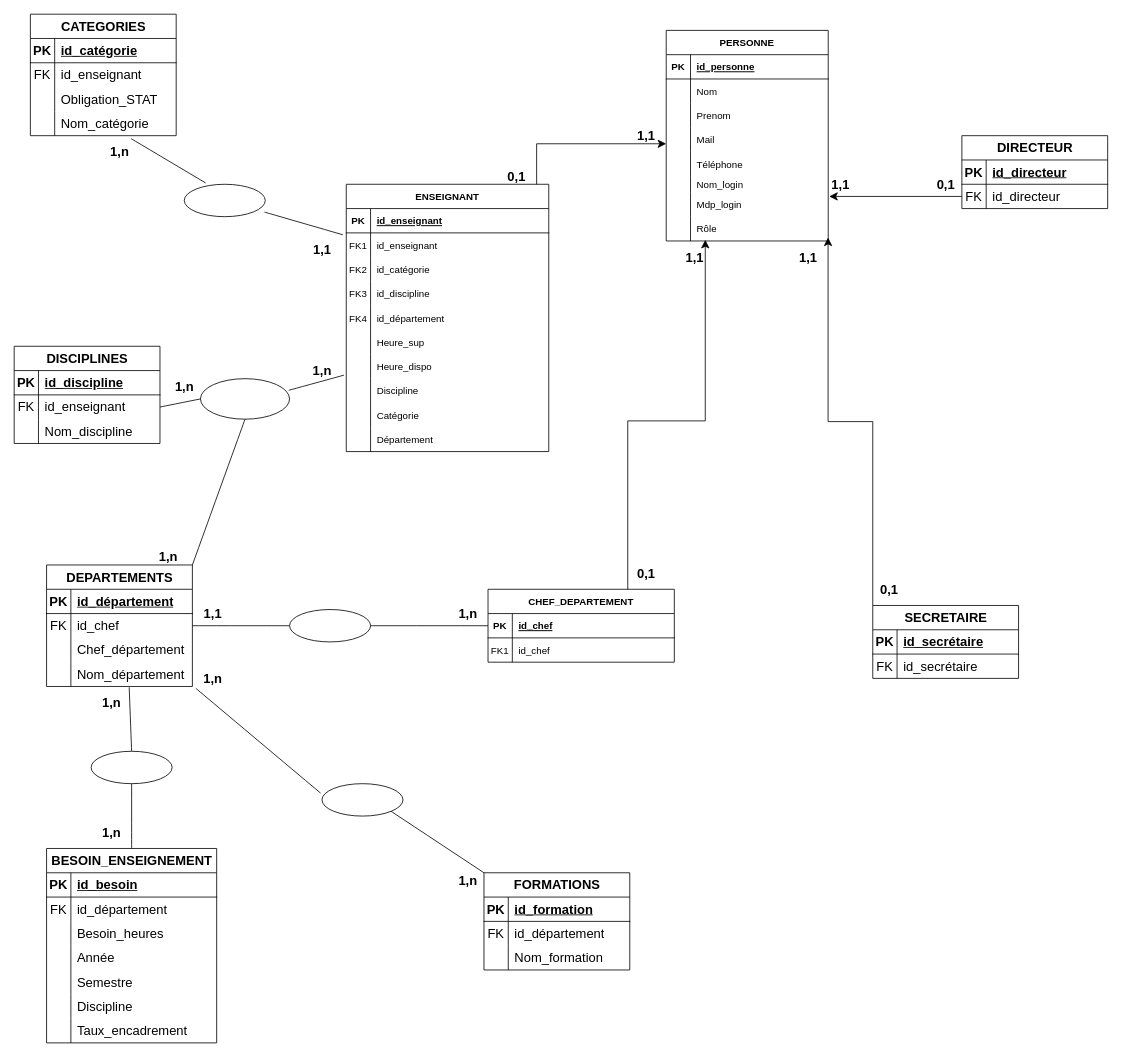
Some shapes in this 1122 by 1057 pixel diagram are drawn without their labels. Here are the shapes that lost their labels. From the top down, the centre of each, then its label:
point (224, 200): Faire partie
point (245, 398): Affecter Volume
point (330, 625): Piloter
point (131, 767): Exprimer
point (362, 799): Proposer
